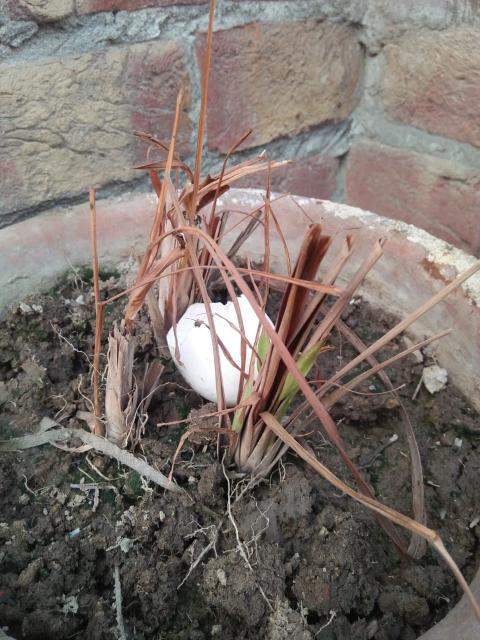Roto: (165, 294, 279, 408)
